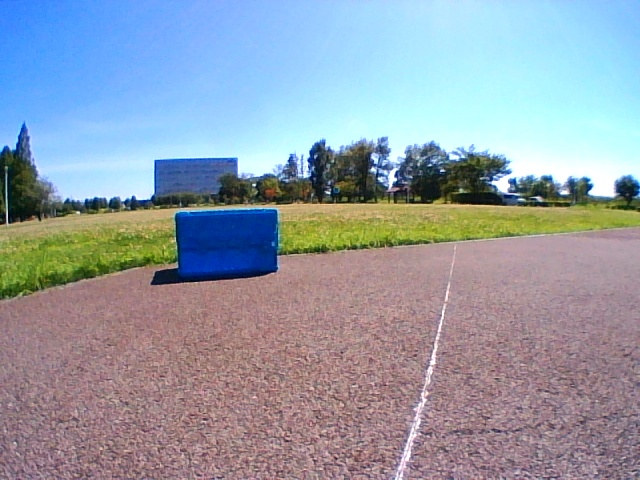blue_box: (175, 210, 277, 277)
